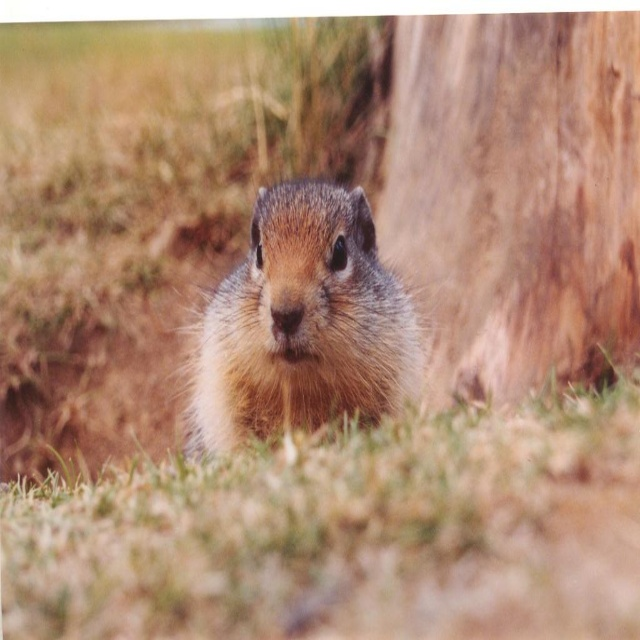Squirrel: (154, 142, 460, 465)
